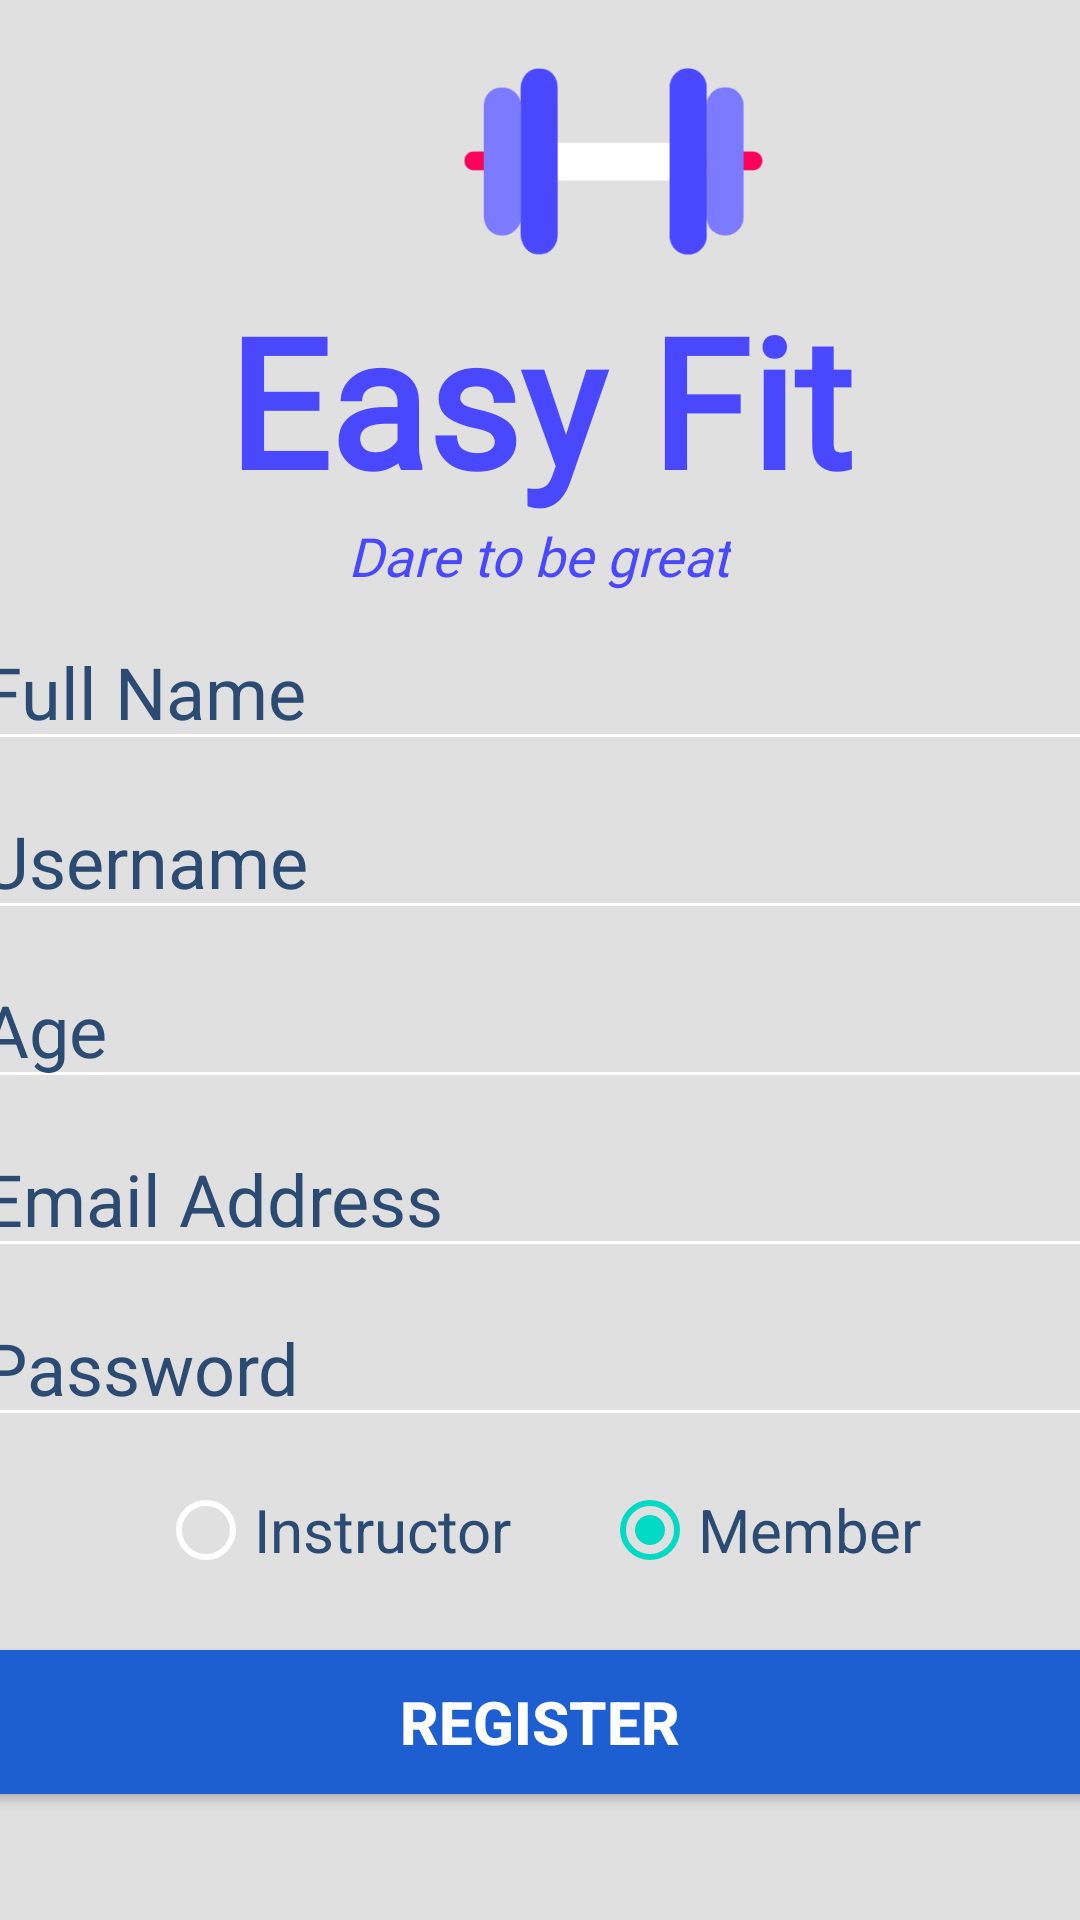

Where icons sit on this 1080w x 1920h app screen, as (x1, y1, x2, y2):
dumbell purp: (464, 68, 763, 255)
